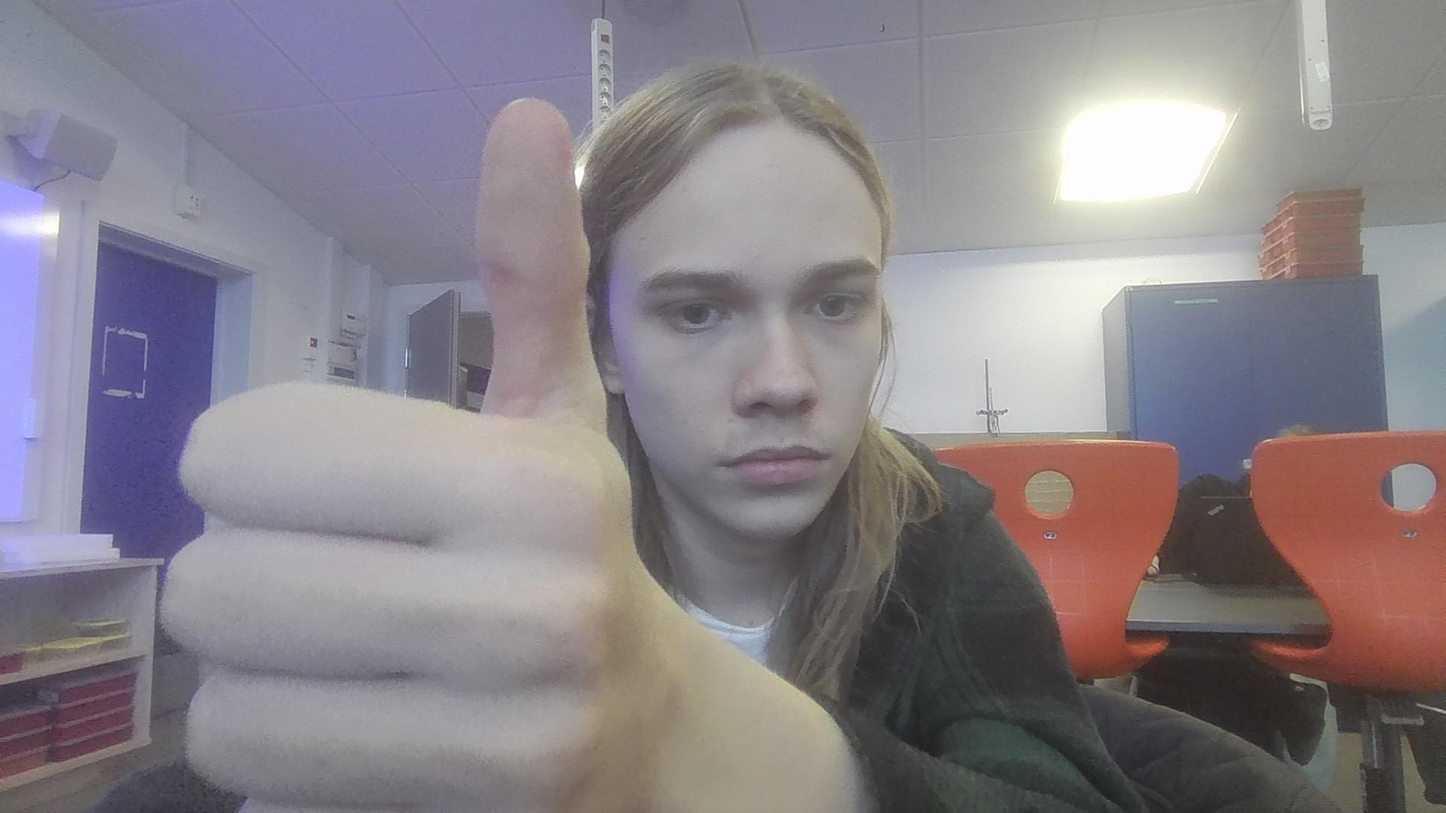thumbs up: (171, 97, 648, 809)
